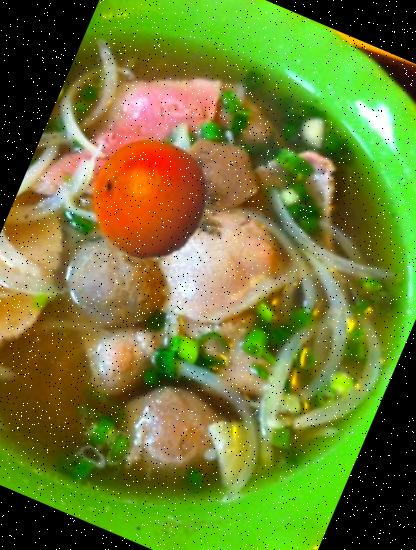Grapefruit: (70, 120, 230, 280)
